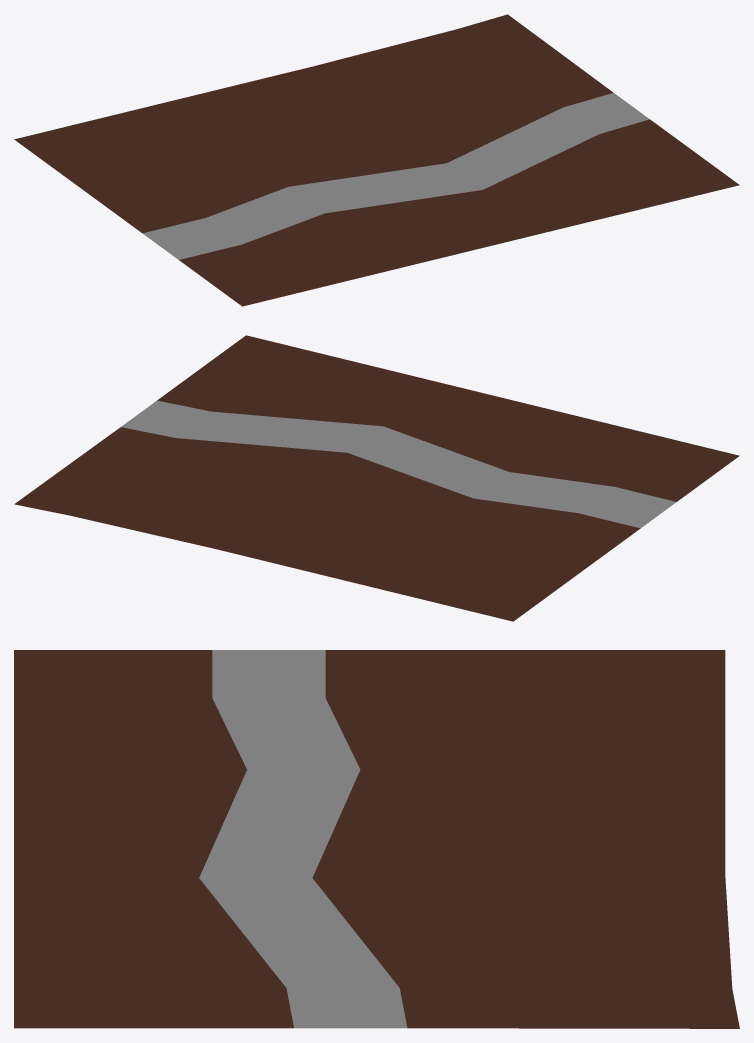
The model's file is suelo.fbx.
3 views of the same model, one above another, from view 1: azimuth 30°, elevation 25°; view 2: azimuth 150°, elevation 25°; view 3: azimuth 270°, elevation 25° (orthographic). The views are drawn at different scales.
Parts seen in each view (by area): view 1: Plane; view 2: Plane; view 3: Plane.
Boxes of the visible parts, x1,y1,x2,y2 form: Plane: (14, 14, 739, 306); Plane: (14, 335, 739, 621); Plane: (14, 650, 739, 1028).
Bounding box in the file's own units: 8652 × 0.00114 × 7007.
